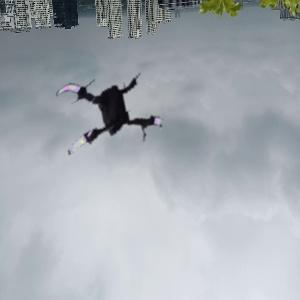drone: (52, 53, 175, 176)
